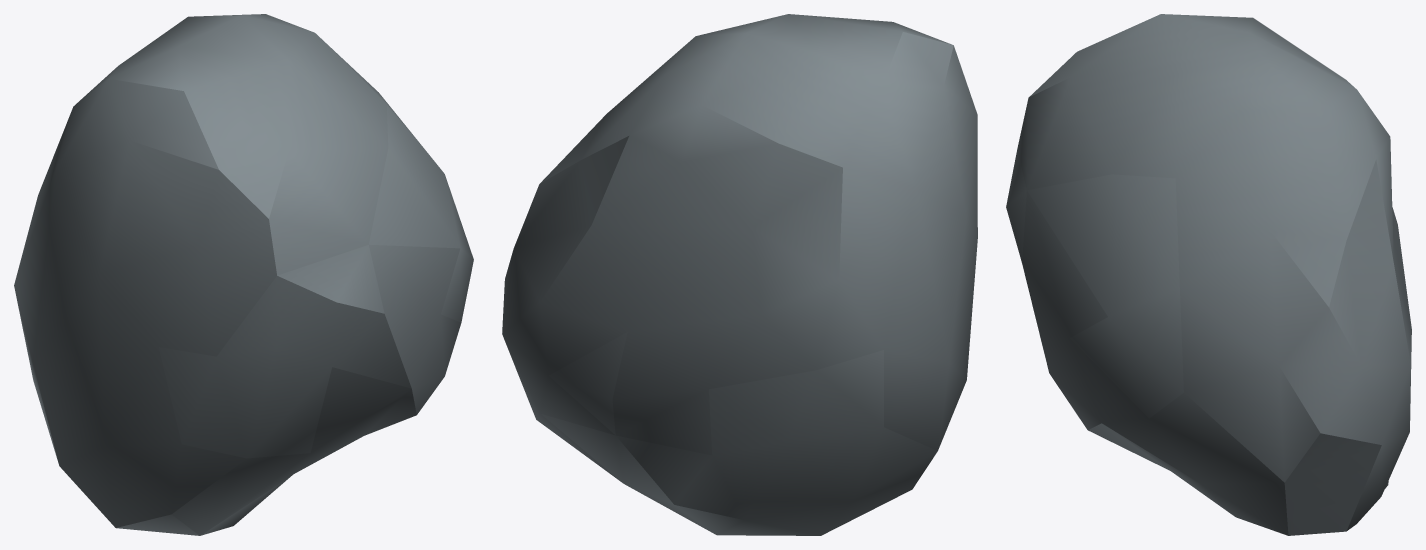
The model's file is Rock_3_I_Color1.fbx.
3 renders of one model, left to right at view 1: azimuth 30°, elevation 25°; view 2: azimuth 150°, elevation 25°; view 3: azimuth 270°, elevation 25°, orthographic. The views are drawn at different scales.
Parts seen in each view (by area): view 1: Rock_3_I_Color1; view 2: Rock_3_I_Color1; view 3: Rock_3_I_Color1.
Part boxes in pixels (x1,y1,x2,y2): Rock_3_I_Color1: [14, 14, 473, 535]; Rock_3_I_Color1: [502, 14, 977, 535]; Rock_3_I_Color1: [1006, 14, 1411, 535].
Size of the model in its own units: 1.92 by 2.11 by 1.64.
